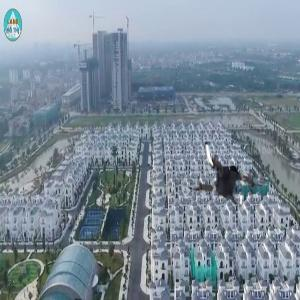drone: (182, 127, 271, 216)
